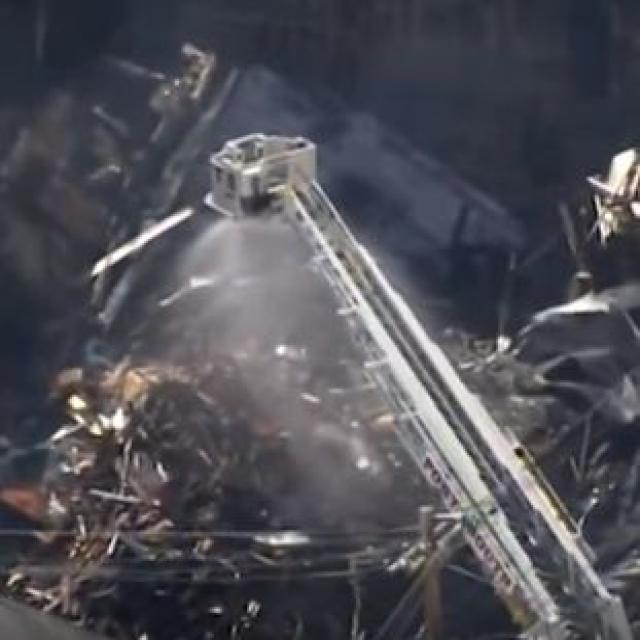collapsed_building: (51, 370, 638, 632)
